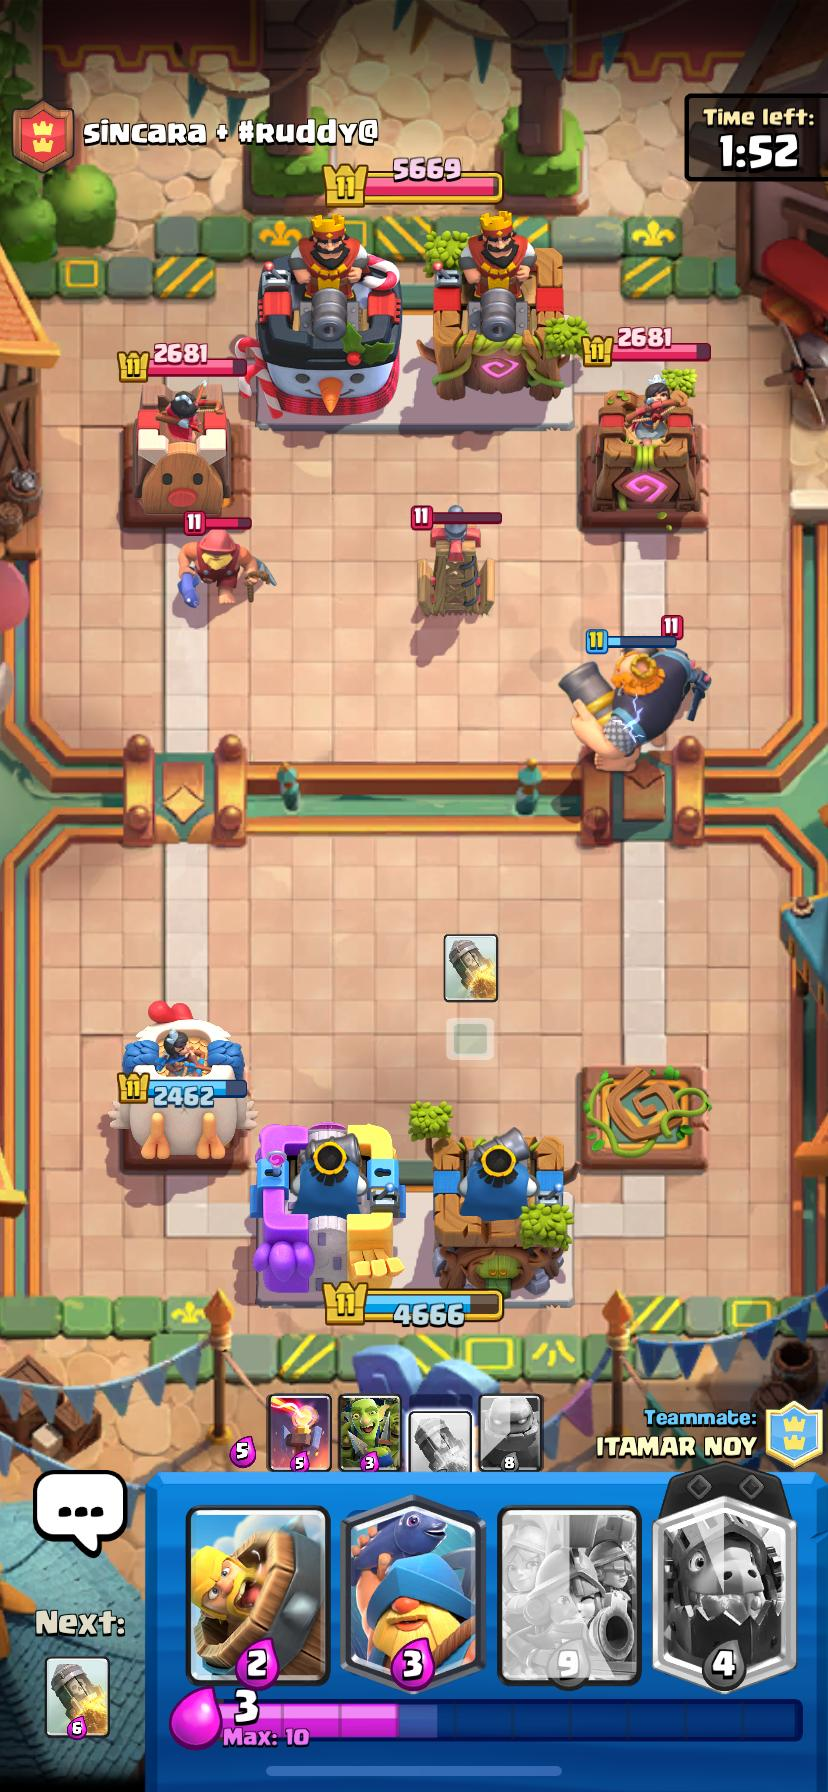EFisherman: (180, 529, 276, 607)
EKingTower: (253, 237, 401, 426), (419, 213, 567, 400)
ETesla: (417, 506, 493, 615)
EnemyPrincessTower: (580, 379, 706, 529), (124, 384, 250, 530)
ORoyalG: (559, 637, 709, 771)
OwnKingTower: (252, 1123, 405, 1301), (433, 1128, 572, 1293)
OwnPrincessTower: (110, 1002, 255, 1161)
TowerDown: (579, 1065, 709, 1169)
